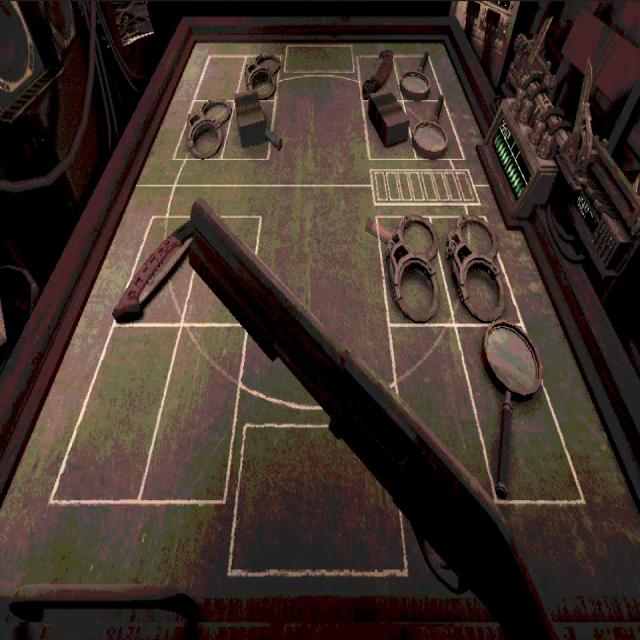ally: (0, 183, 639, 639)
cigar: (363, 91, 411, 144)
doubledamage: (112, 220, 193, 325), (361, 49, 393, 99)
emptyspace: (53, 318, 178, 498), (389, 319, 497, 505), (143, 318, 249, 505)
enemyspace: (143, 34, 487, 175)
gun: (187, 200, 552, 639)
handcuff: (446, 215, 505, 322), (385, 214, 440, 321), (188, 99, 232, 158), (244, 49, 281, 98)
lens: (481, 321, 541, 499), (410, 96, 453, 159), (399, 51, 433, 100), (352, 44, 354, 46)
